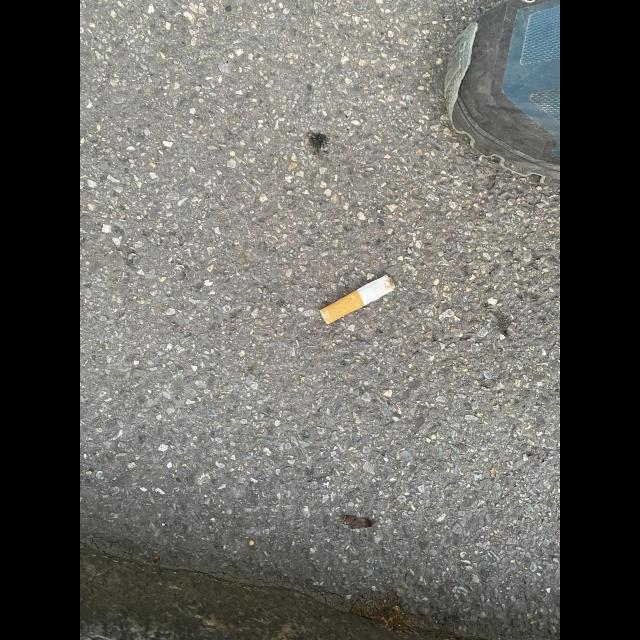cigarette: (319, 274, 395, 325)
